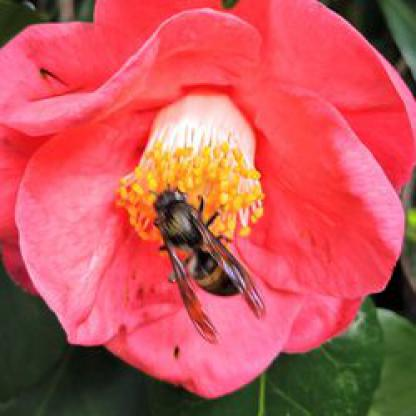Asian Hornet: (143, 178, 272, 344)
